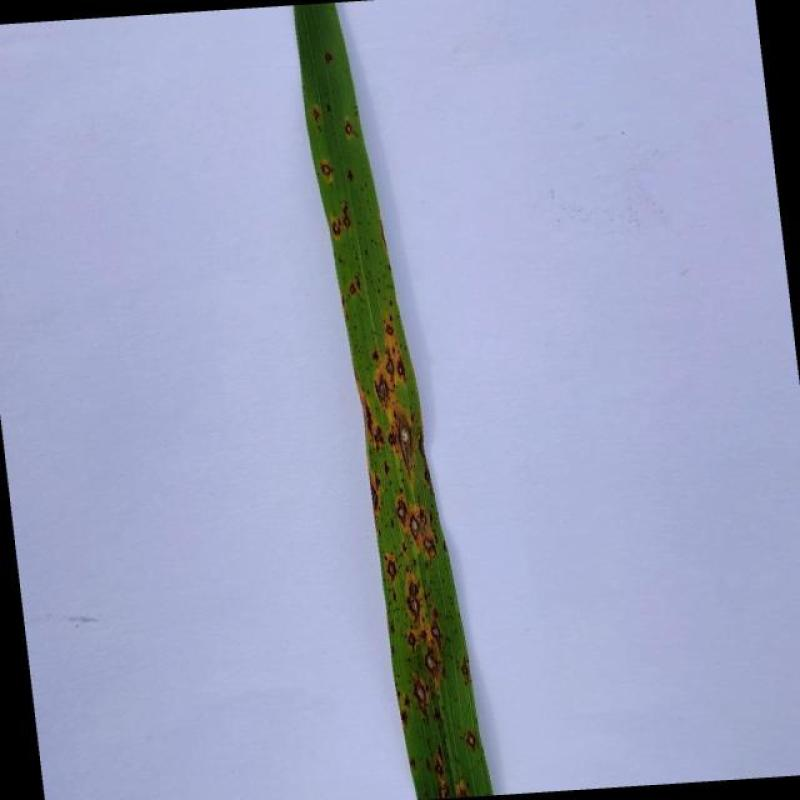Leaf_Blast: (396, 412, 415, 478), (410, 674, 431, 716), (372, 370, 392, 405), (423, 646, 442, 676), (385, 554, 400, 588), (405, 572, 423, 598), (431, 756, 447, 782), (365, 402, 375, 442), (407, 514, 422, 540), (408, 596, 424, 620), (396, 500, 410, 526), (385, 352, 397, 382), (426, 620, 444, 640), (404, 630, 420, 651), (419, 428, 428, 462), (422, 538, 438, 557), (464, 731, 480, 750), (320, 162, 335, 182), (370, 484, 380, 514), (342, 201, 352, 230), (438, 780, 452, 799), (330, 219, 342, 241), (396, 354, 405, 382), (456, 782, 470, 798), (384, 321, 395, 339), (388, 431, 399, 449), (321, 51, 335, 65), (346, 282, 359, 297), (344, 121, 355, 138), (375, 425, 385, 443), (460, 659, 469, 679), (370, 346, 381, 362), (418, 509, 427, 526), (375, 472, 383, 490), (311, 108, 321, 122), (425, 469, 433, 485), (385, 461, 393, 475), (430, 486, 435, 496)
